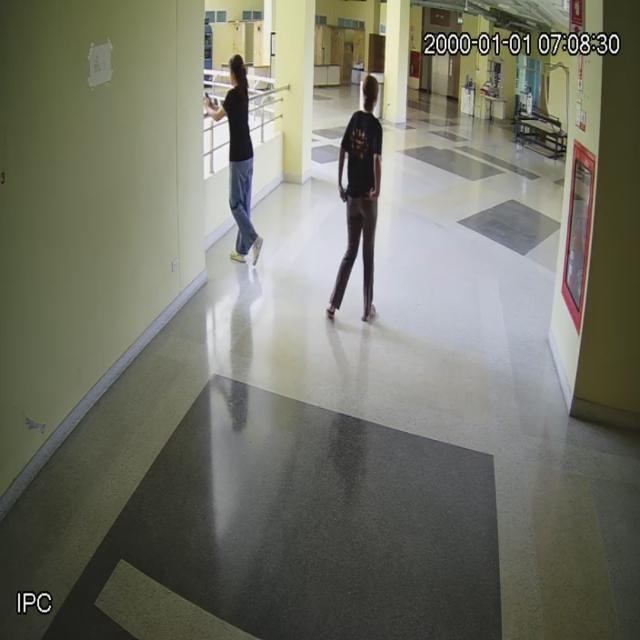normal: (327, 80, 384, 320), (219, 52, 263, 264)
